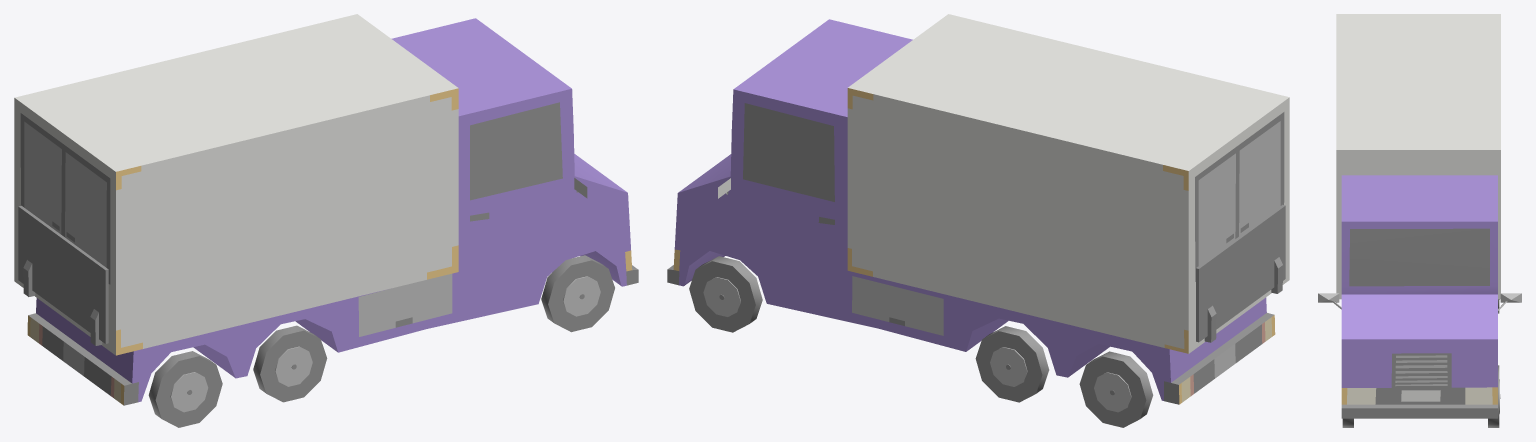
File: truck12.fbx
The picture shows the model from 3 angles, left to right: view 1: azimuth 30°, elevation 25°; view 2: azimuth 150°, elevation 25°; view 3: azimuth 270°, elevation 25°; orthographic projection. The views are drawn at different scales.
Parts seen in each view (by area): view 1: Cube_1, Cylinder, Cylinder_9, Cylinder_6; view 2: Cube_1, Cylinder_8, Cylinder_1, Cylinder_7; view 3: Cube_1, Cylinder_7.
Boxes of the visible parts, x1,y1,x2,y2 form: Cube_1: [14, 14, 638, 405]; Cylinder: [253, 325, 327, 402]; Cylinder_9: [148, 351, 222, 427]; Cylinder_6: [541, 255, 614, 332]; Cube_1: [667, 14, 1289, 404]; Cylinder_8: [1079, 351, 1153, 427]; Cylinder_1: [975, 326, 1049, 402]; Cylinder_7: [689, 256, 762, 332]; Cube_1: [1318, 14, 1521, 418]; Cylinder_7: [1488, 365, 1500, 427].
Bounding box in the file's own units: 607 × 300 × 247.
